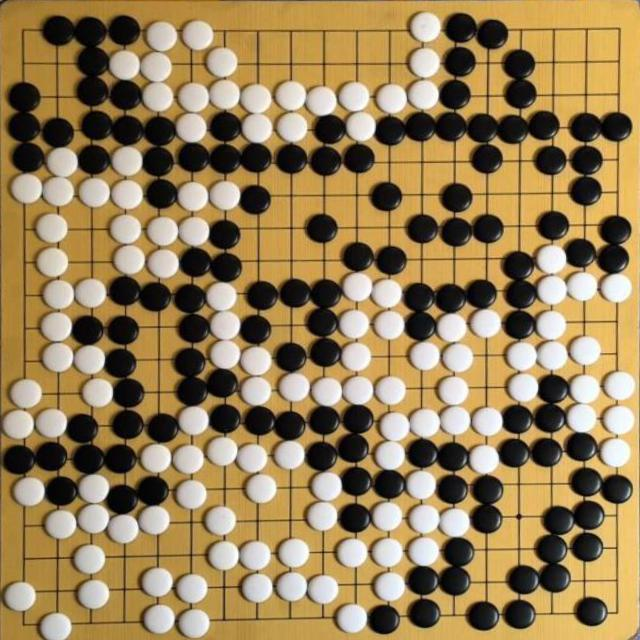blackstone: (103, 442, 138, 473), (77, 76, 110, 108), (77, 46, 110, 78), (12, 142, 46, 173), (74, 16, 108, 47), (146, 412, 180, 443), (66, 413, 100, 444), (305, 212, 337, 244), (81, 110, 113, 142), (143, 146, 175, 178), (598, 243, 630, 275), (109, 276, 142, 307), (210, 252, 243, 283), (42, 117, 75, 148), (240, 143, 273, 174), (43, 15, 76, 46), (568, 176, 602, 206), (138, 281, 172, 311), (532, 403, 566, 433), (72, 315, 104, 346), (600, 215, 632, 246), (78, 145, 110, 176), (210, 144, 242, 175), (310, 279, 342, 310), (110, 80, 142, 111), (4, 445, 36, 476), (46, 476, 78, 507), (466, 278, 498, 309), (209, 220, 242, 250), (107, 316, 140, 346), (105, 348, 138, 378), (112, 378, 145, 408), (112, 410, 145, 440), (306, 308, 339, 338), (106, 485, 139, 515), (108, 15, 141, 45), (242, 406, 275, 436), (173, 283, 206, 313), (8, 112, 41, 142), (506, 566, 540, 595), (506, 79, 537, 110), (370, 182, 402, 212), (538, 211, 570, 241), (146, 179, 178, 209), (276, 144, 308, 174), (310, 146, 342, 176), (246, 281, 278, 311), (275, 343, 307, 373), (178, 314, 210, 344), (528, 111, 560, 141), (504, 49, 536, 79), (571, 146, 603, 176), (435, 112, 467, 142), (178, 143, 210, 173), (180, 247, 212, 277), (570, 113, 602, 143), (144, 116, 176, 146), (565, 238, 597, 268), (506, 280, 538, 310), (477, 19, 509, 49), (210, 111, 242, 141), (176, 376, 208, 406), (538, 374, 570, 404), (9, 82, 41, 112), (206, 369, 238, 399), (601, 112, 633, 142), (137, 476, 169, 506), (571, 468, 603, 498), (472, 475, 504, 505), (445, 13, 477, 43), (442, 537, 474, 567), (340, 466, 372, 496), (537, 534, 569, 564), (408, 566, 440, 596), (409, 600, 441, 630), (406, 438, 438, 468), (36, 440, 66, 472), (210, 404, 242, 434), (306, 441, 338, 471), (113, 114, 143, 146), (174, 348, 207, 377), (369, 605, 402, 634), (343, 242, 374, 272), (472, 144, 503, 174), (344, 144, 375, 174), (440, 80, 471, 110), (240, 315, 271, 345), (497, 114, 528, 144), (472, 504, 503, 534), (438, 474, 469, 504), (338, 433, 369, 463), (374, 470, 405, 500), (435, 282, 466, 312), (406, 311, 437, 341), (73, 444, 104, 474), (467, 112, 497, 143), (240, 185, 272, 214), (444, 47, 476, 76), (279, 279, 311, 308), (314, 115, 346, 144), (310, 338, 342, 367), (504, 311, 536, 340), (543, 506, 575, 535), (572, 533, 604, 562), (440, 566, 472, 595), (539, 563, 571, 592), (504, 600, 536, 629), (468, 602, 501, 630), (565, 432, 598, 460), (536, 146, 566, 176), (376, 116, 406, 146), (502, 404, 532, 434), (439, 441, 469, 471), (504, 251, 535, 280), (340, 504, 371, 533), (602, 475, 633, 504), (574, 501, 605, 530), (403, 282, 434, 311), (531, 439, 563, 467), (308, 406, 340, 434), (342, 405, 374, 433), (406, 111, 434, 143), (408, 214, 438, 243), (376, 246, 406, 275), (474, 214, 504, 243), (276, 410, 306, 439), (441, 218, 472, 246), (499, 439, 530, 467), (577, 598, 608, 626), (442, 184, 472, 212)
whitestone: (175, 572, 210, 604), (36, 247, 70, 279), (77, 503, 111, 535), (77, 578, 111, 610), (334, 538, 368, 570), (41, 311, 74, 343), (177, 82, 210, 114), (3, 409, 36, 441), (140, 51, 173, 83), (371, 536, 404, 568), (35, 213, 69, 244), (42, 176, 76, 207), (146, 216, 180, 247), (73, 544, 107, 575), (12, 477, 46, 508), (207, 540, 241, 571), (138, 505, 172, 536), (77, 474, 111, 505), (140, 567, 174, 598), (11, 173, 43, 205), (142, 81, 174, 113), (36, 408, 68, 440), (602, 404, 634, 436), (75, 278, 108, 309), (111, 179, 144, 210), (111, 146, 144, 177), (74, 344, 107, 375), (408, 48, 441, 79), (240, 83, 273, 114), (209, 79, 242, 110), (44, 509, 77, 540), (175, 479, 208, 510), (310, 472, 343, 503), (42, 280, 75, 311), (407, 536, 440, 567), (239, 540, 272, 571), (143, 604, 176, 635), (78, 177, 112, 207), (112, 246, 146, 276), (602, 371, 636, 401), (306, 501, 340, 531), (240, 573, 274, 603), (3, 581, 37, 611), (335, 603, 369, 633), (177, 609, 211, 639), (42, 343, 74, 374), (46, 147, 78, 178), (10, 378, 42, 409), (178, 216, 210, 247), (375, 83, 407, 114), (206, 47, 238, 78), (536, 310, 568, 341), (175, 113, 207, 144), (278, 538, 310, 569), (408, 504, 440, 535), (110, 214, 143, 244), (81, 378, 114, 408), (147, 249, 180, 279), (505, 342, 538, 372), (241, 114, 274, 144), (469, 309, 502, 339), (245, 474, 278, 504), (599, 437, 632, 467), (172, 444, 205, 474), (204, 506, 237, 536), (468, 444, 501, 474), (378, 412, 411, 442), (107, 514, 140, 544), (373, 572, 406, 602), (275, 572, 308, 602), (272, 441, 306, 470), (569, 374, 600, 405), (210, 180, 242, 210), (178, 182, 210, 212), (569, 336, 601, 366), (276, 112, 308, 142), (566, 272, 598, 302), (535, 244, 567, 274), (110, 50, 142, 80), (407, 80, 439, 110), (342, 272, 374, 302), (438, 376, 470, 406), (210, 310, 242, 340), (600, 273, 632, 303), (537, 340, 569, 370), (305, 85, 337, 115), (508, 373, 540, 403), (240, 346, 272, 376), (210, 340, 242, 370), (140, 444, 172, 474), (275, 81, 307, 111), (146, 21, 178, 51), (279, 372, 311, 402), (182, 20, 214, 50), (240, 376, 272, 406), (178, 406, 210, 436), (442, 343, 474, 373), (342, 376, 374, 406), (311, 377, 343, 407), (471, 407, 503, 437), (374, 440, 406, 470), (439, 508, 471, 538), (371, 501, 403, 531), (206, 282, 239, 311), (408, 342, 441, 371), (537, 275, 568, 305), (371, 278, 402, 308), (345, 112, 376, 142), (339, 82, 370, 112), (437, 313, 468, 343), (341, 342, 372, 372), (375, 376, 406, 406), (566, 403, 597, 433), (439, 406, 470, 436), (409, 408, 440, 438), (373, 311, 405, 340), (236, 444, 268, 473), (207, 437, 239, 466), (307, 575, 339, 604), (406, 470, 436, 500), (339, 310, 370, 339), (410, 12, 441, 41), (40, 612, 72, 640)
